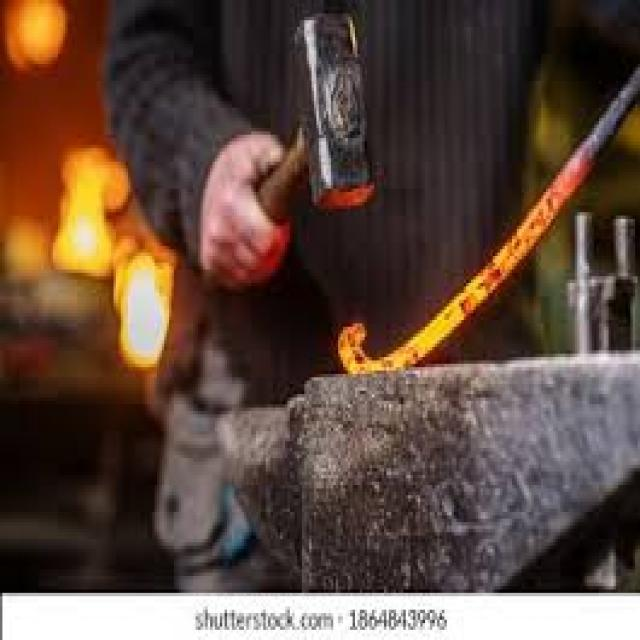hammer: (245, 0, 397, 222)
